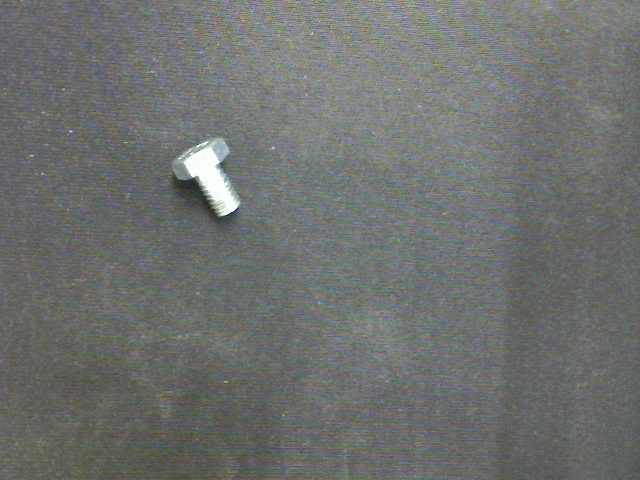screw8: (172, 135, 240, 218)
